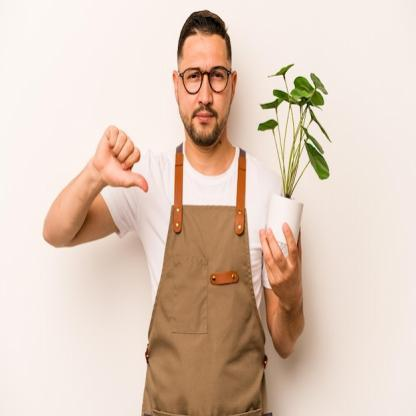thumb_down: (92, 117, 152, 200)
